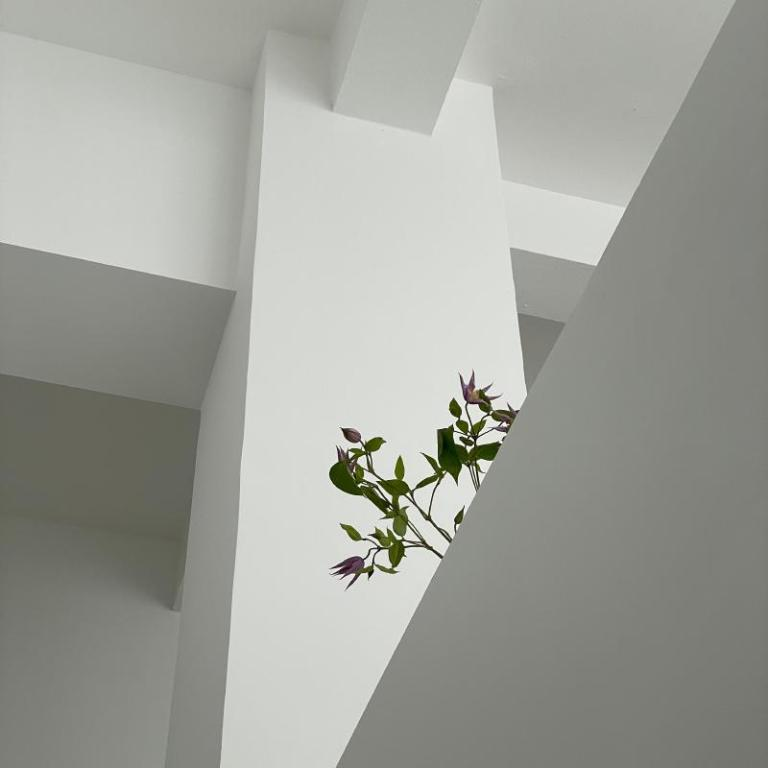white-walls: (56, 130, 491, 348)
